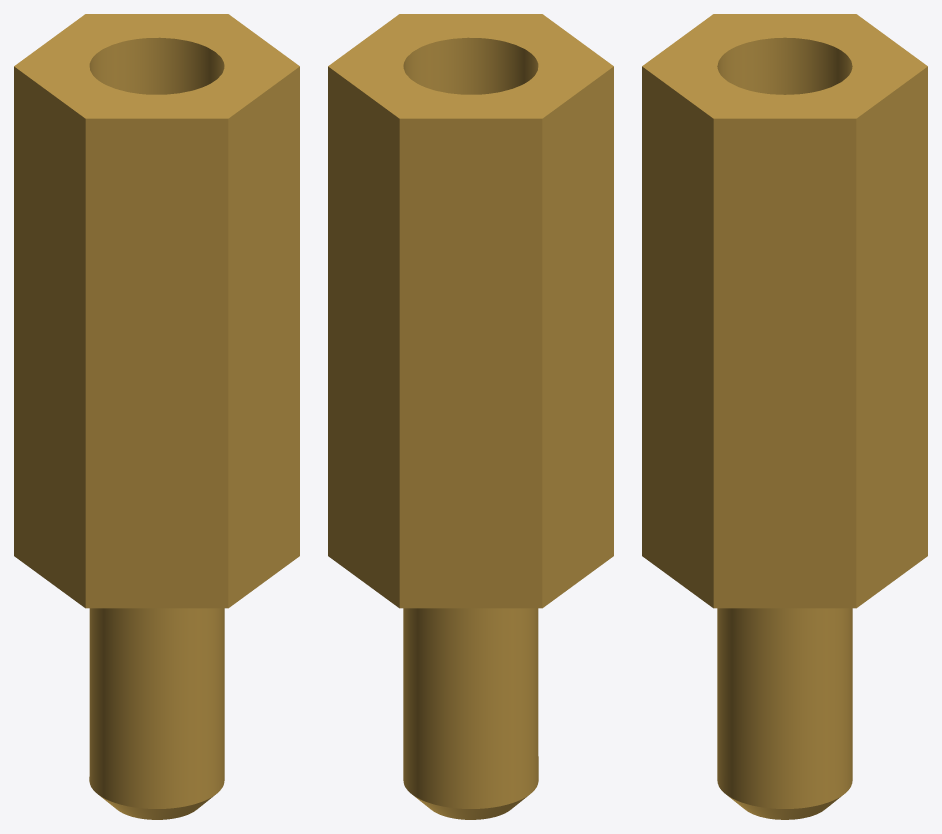
File: hex_standoff_m3_12mm_male_female.glb
3 views of the same model, side by side, from view 1: azimuth 30°, elevation 25°; view 2: azimuth 150°, elevation 25°; view 3: azimuth 270°, elevation 25° (orthographic).
Parts seen in each view (by area): view 1: standoff; view 2: standoff; view 3: standoff.
Boxes of the visible parts, box(x1,y1,x2,y2) form: standoff: box(14, 14, 299, 819); standoff: box(328, 14, 613, 819); standoff: box(642, 14, 927, 819).
Size of the model in its own units: 0.0055 by 0.018 by 0.00635.
